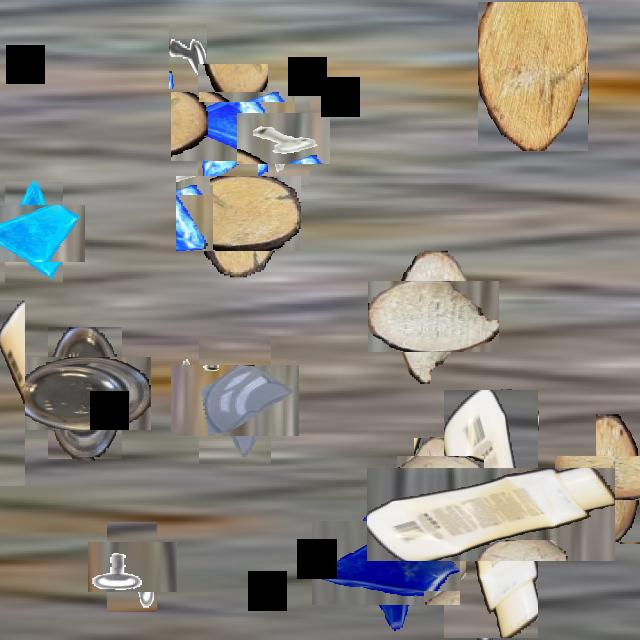glass: (328, 505, 444, 622), (185, 350, 285, 450), (185, 77, 282, 175), (0, 192, 74, 273)
metal: (248, 102, 320, 175), (97, 532, 167, 602), (166, 355, 214, 441), (169, 21, 207, 89)
plastic: (406, 428, 576, 600), (34, 342, 136, 444), (0, 300, 25, 486)
wood: (478, 2, 588, 151), (383, 266, 485, 367), (189, 163, 289, 264), (575, 435, 640, 521), (405, 447, 475, 517)
